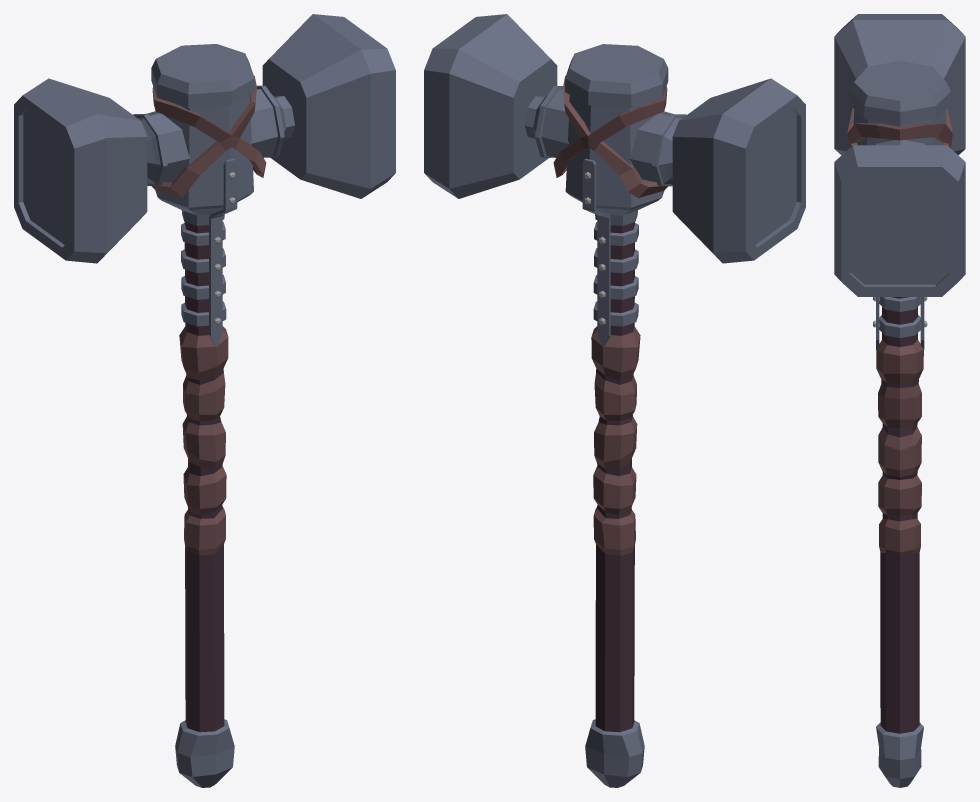
File: hammer_double.glb
3 renders of one model, left to right at view 1: azimuth 30°, elevation 25°; view 2: azimuth 150°, elevation 25°; view 3: azimuth 270°, elevation 25°, orthographic. The views are drawn at different scales.
Visible parts, largest first — view 1: Hammer_Double; view 2: Hammer_Double; view 3: Hammer_Double.
Part boxes in pixels (bbox=[...]): Hammer_Double: bbox=[14, 14, 395, 787]; Hammer_Double: bbox=[424, 14, 805, 787]; Hammer_Double: bbox=[834, 14, 965, 787].
Bounding box in the file's own units: 1.18 × 2.53 × 0.4291.
